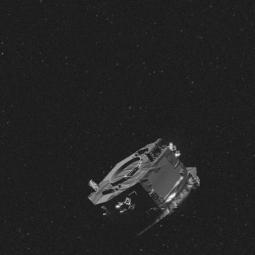lisa_pathfinder: (77, 138, 213, 244)
